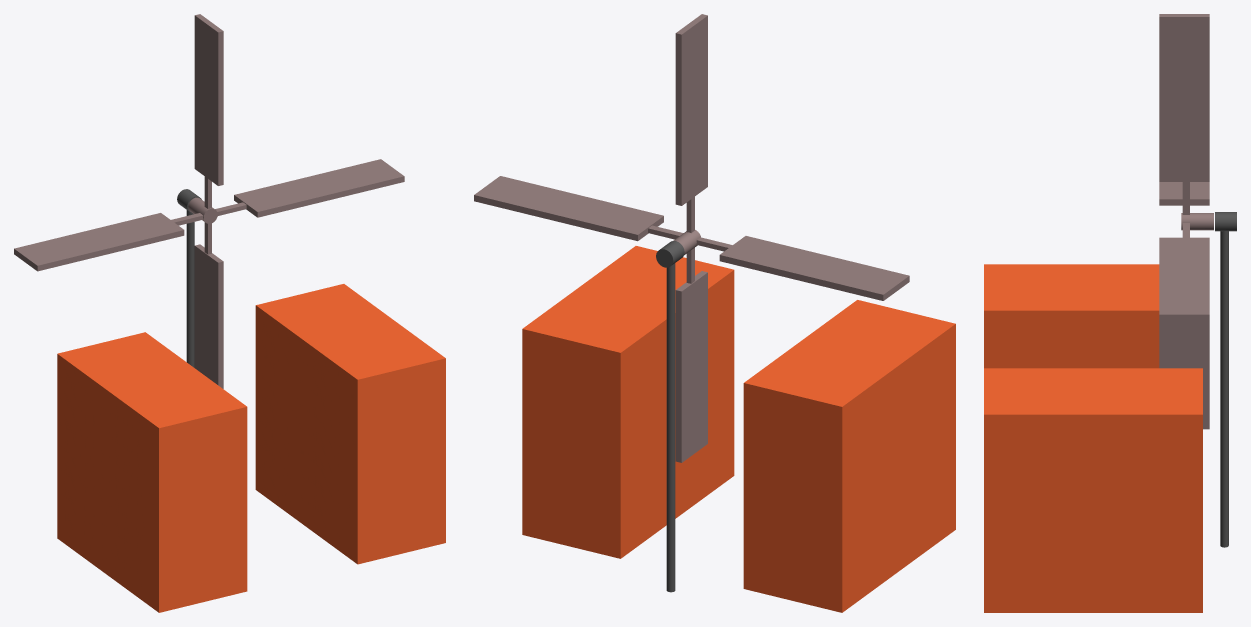
File: Windmill.gltf
3 views of the same model, side by side, from view 1: azimuth 30°, elevation 25°; view 2: azimuth 150°, elevation 25°; view 3: azimuth 270°, elevation 25° (orthographic). The views are drawn at different scales.
Visible parts, largest first — view 1: Up_3, Left_0, Right_1, Down_2, FixB_4, FixA_5, polySurface275, polySurface19, polySurface467, polySurface499, polySurface435, polySurface403 (+30 smaller); view 2: Up_3, Down_2, Left_0, Right_1, FixB_4, FixA_5, polySurface280, polySurface24, polySurface504, polySurface440, polySurface472, polySurface408 (+68 smaller); view 3: Up_3, Right_1, FixB_4, Down_2, polySurface281, polySurface25, Left_0, polySurface286, polySurface285, polySurface31, polySurface30, polySurface29 (+71 smaller).
Part boxes in pixels (x1,y1,x2,y2): Up_3: (194,14,223,185); Left_0: (14,213,184,271); Right_1: (234,159,404,217); Down_2: (194,244,223,388); FixB_4: (177,189,201,367); FixA_5: (171,176,246,254); polySurface275: (146,413,181,451); polySurface19: (345,365,379,402); polySurface467: (146,557,181,589); polySurface499: (146,488,181,520); polySurface435: (146,511,181,543); polySurface403: (146,534,181,566); Up_3: (675,14,707,205); Down_2: (675,271,707,462); Left_0: (719,236,909,300); Right_1: (474,176,663,241); FixB_4: (656,241,684,592); FixA_5: (648,196,732,283); polySurface280: (817,390,856,432); polySurface24: (596,336,634,378); polySurface504: (817,474,856,509); polySurface440: (817,500,856,535); polySurface472: (817,551,856,586); polySurface408: (817,526,856,561); Up_3: (1159,14,1209,181); Right_1: (1159,237,1209,320); FixB_4: (1215,212,1236,547); Down_2: (1159,321,1209,429); polySurface281: (1038,299,1066,335); polySurface25: (1038,403,1066,439); Left_0: (1159,182,1209,205); polySurface286: (1011,299,1038,335); polySurface285: (1066,299,1093,335); polySurface31: (1148,403,1175,439); polySurface30: (1011,403,1038,439); polySurface29: (1066,403,1093,439).
Size of the model in its own units: 0.8316 by 1.07 by 0.462.
1 material, 1 textured.
